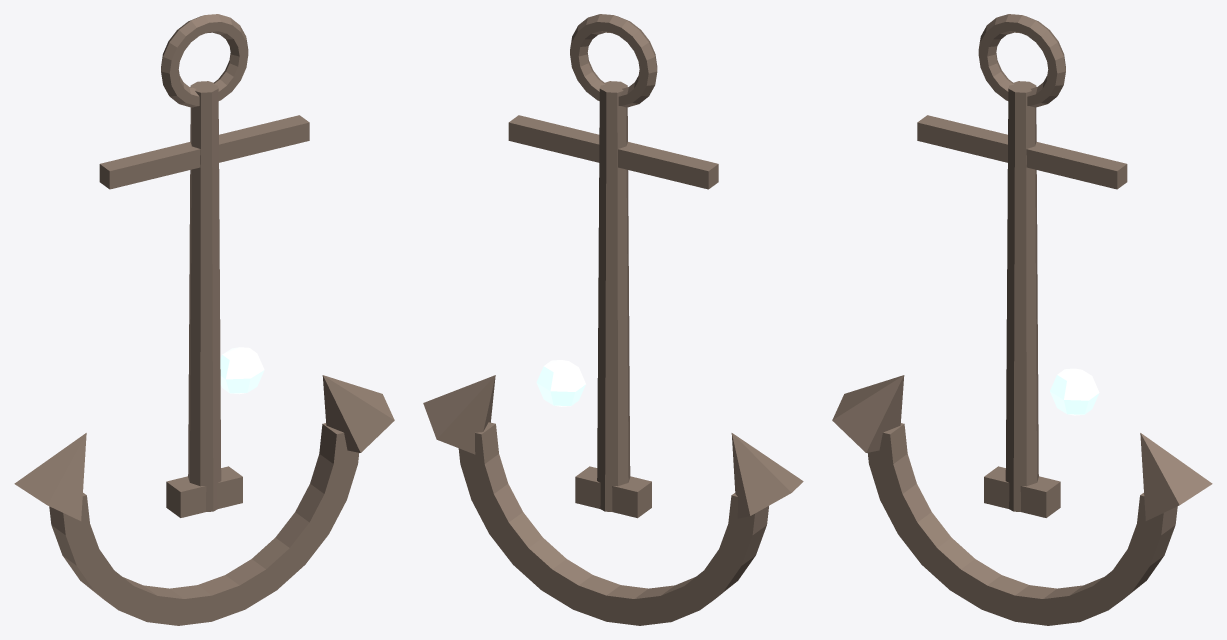
The model's file is prop_anchor.glb.
3 views of the same model, side by side, from view 1: azimuth 30°, elevation 25°; view 2: azimuth 150°, elevation 25°; view 3: azimuth 330°, elevation 25° (orthographic).
Visible parts, largest first — view 1: prop_anchor_metal, prop_anchor_bio; view 2: prop_anchor_metal, prop_anchor_bio; view 3: prop_anchor_metal, prop_anchor_bio.
Boxes of the visible parts, x1,y1,x2,y2 form: prop_anchor_metal: (14,14,394,625); prop_anchor_bio: (220,347,264,394); prop_anchor_metal: (423,14,803,625); prop_anchor_bio: (536,360,585,406); prop_anchor_metal: (832,14,1212,625); prop_anchor_bio: (1050,368,1099,415).
Bounding box in the file's own units: 2.95 × 4.6 × 0.5065.
